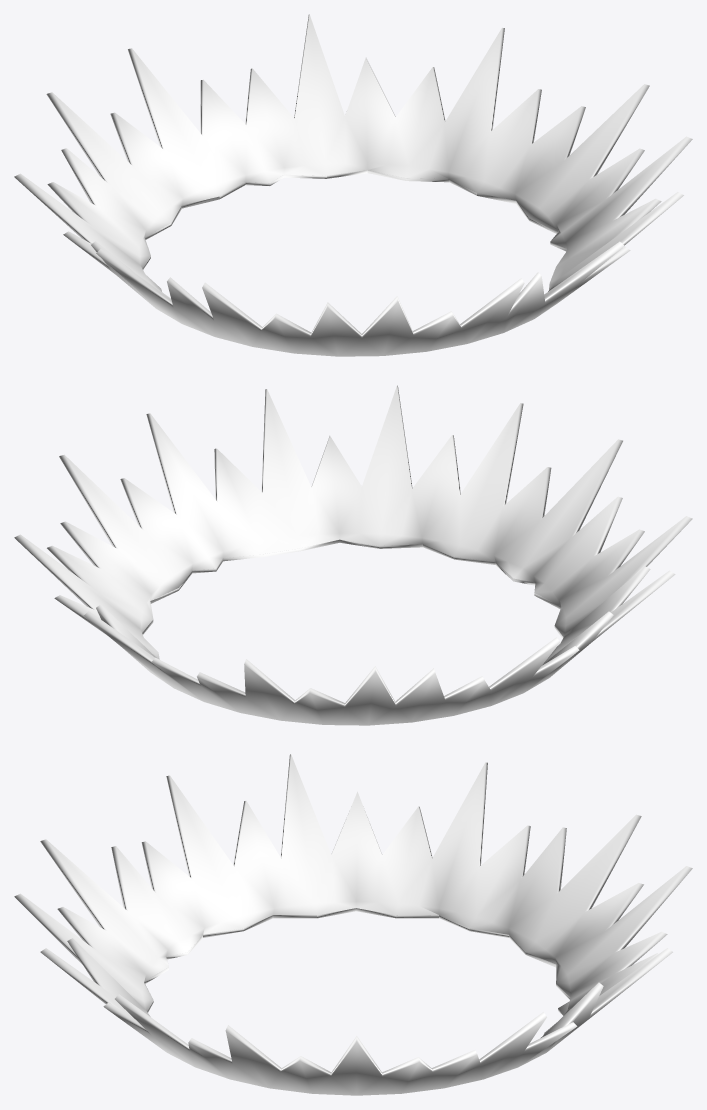
File: shockwave.obj
The picture shows the model from 3 angles, top to bottom: view 1: azimuth 30°, elevation 25°; view 2: azimuth 150°, elevation 25°; view 3: azimuth 270°, elevation 25°; orthographic projection.
Visible parts, largest first — view 1: 球; view 2: 球; view 3: 球.
Part boxes in pixels (bbox=[...]): 球: bbox=[14, 14, 692, 356]; 球: bbox=[14, 385, 692, 725]; 球: bbox=[14, 754, 692, 1095].
Bounding box in the file's own units: 8.82 × 1.57 × 8.82.
Materials: 1 (1 with a texture image).
